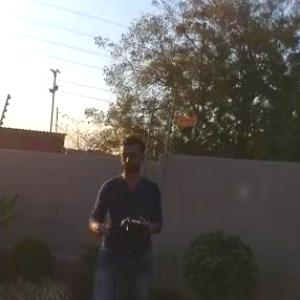follow: (84, 128, 167, 299)
